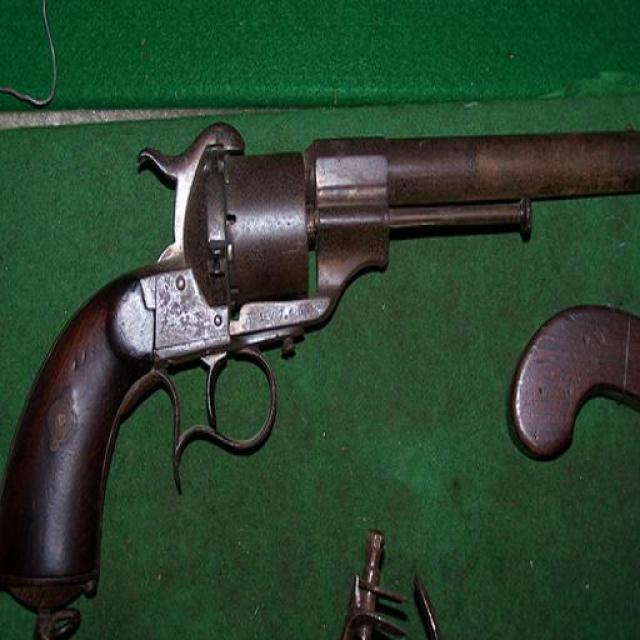pistol: (1, 116, 640, 598)
